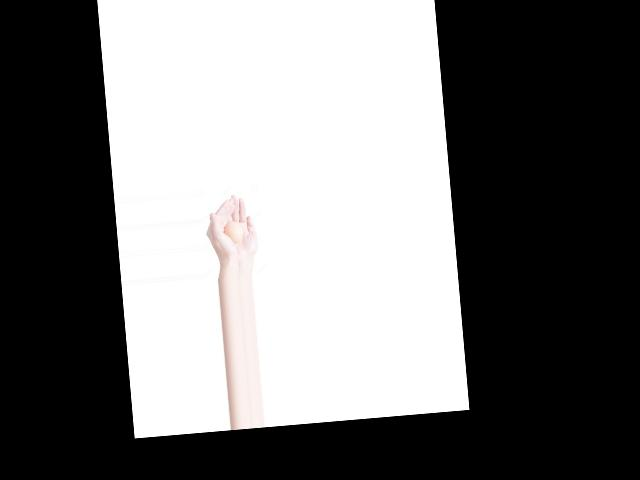egg: (223, 220, 242, 242)
